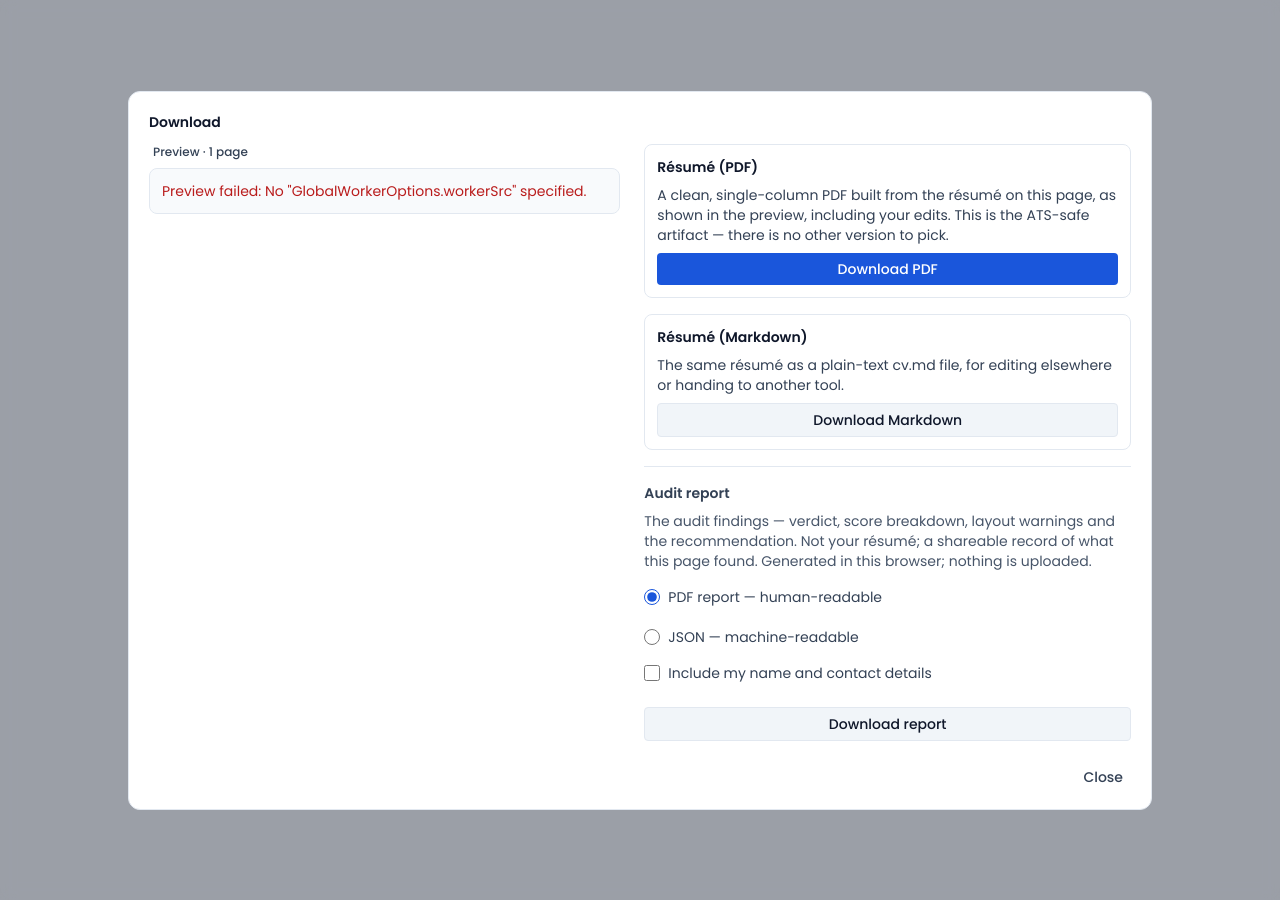
it: ExportDialog › swaps to the checklist IN THE SAME dialog when a critical field is missing
The image size is (1280, 900).
What coordinates should you click on to do the following:
click the button "Download PDF"
I would click on:
 (888, 268)
Its box is [657,252,1118,284].
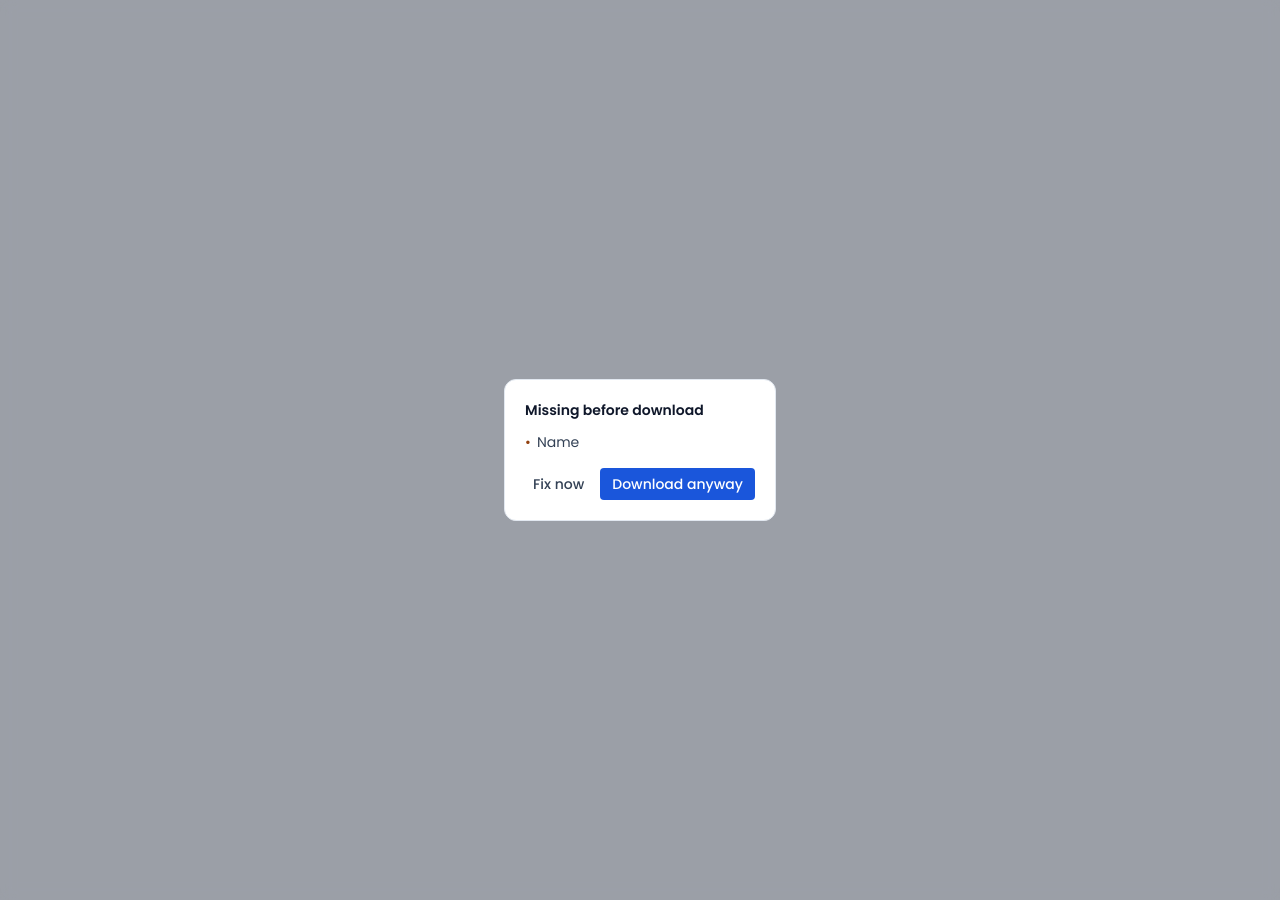
Result: the dialog shows "Name" at [537,432,579,452]
Result: the dialog shows "Fix now" at [525,472,592,496]
Result: the heading "Résumé (Markdown)" no longer shows "Résumé (Markdown)"
